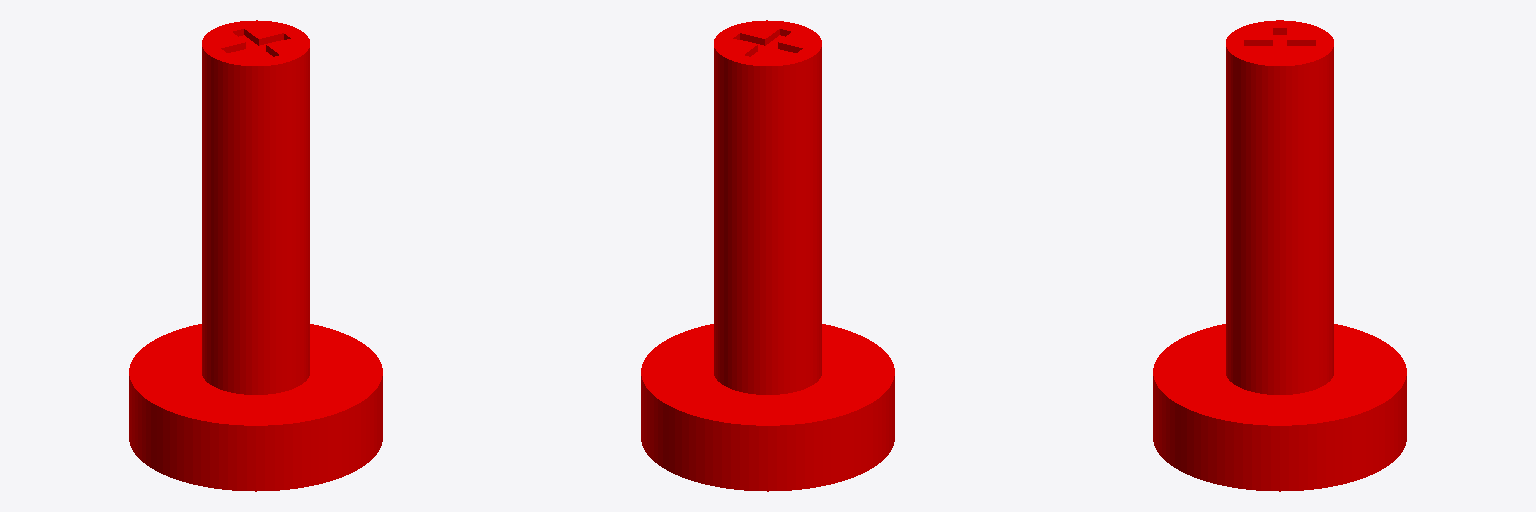
robot.urdf — x_marker:
<?xml version="1.0" ?>
<robot name="x_marker">
  <link name="x_marker">
    <inertial>
      <!-- STL 기준 질량중심 (단위: m) -->
      <origin xyz="0.0 0.0 0.0192291" rpy="0 0 0"/>
      <!-- 작은 O 말: 약 15 g -->
      <mass value="0.015"/>
      <!-- STL 형상 기반 관성 모멘트 (kg·m^2), COM 기준 -->
      <inertia
        ixx="5.57039e-06"
        iyy="5.57039e-06"
        izz="1.40162e-06"
        ixy="0.0"
        iyz="0.0"
        ixz="0.0"/>
    </inertial>

    <visual>
      <origin xyz="0 0 0" rpy="0 0 0"/>
      <geometry>
        <mesh filename="package://kat_description/meshes/board/x_marker.stl"/>
      </geometry>
      <material name="silver">
        <color rgba="1 0 0 1"/>
      </material>
    </visual>

    <collision>
      <origin xyz="0 0 0" rpy="0 0 0"/>
      <geometry>
        <mesh filename="package://kat_description/meshes/board/x_marker.stl"/>
      </geometry>
    </collision>
  </link>

  <gazebo>
    <plugin name="control" filename="libgazebo_ros_control.so"/>
  </gazebo>
</robot>

--- Facts derived from the render (not from the file) ---
The picture shows the robot from 3 angles, left to right: view 1: azimuth 30°, elevation 25°; view 2: azimuth 150°, elevation 25°; view 3: azimuth 270°, elevation 25°; orthographic projection.
Model x_marker with 1 links and 0 joints (none), rooted at x_marker, posed all joints at 0.
Visible links, largest first — view 1: x_marker; view 2: x_marker; view 3: x_marker.
Boxes of the visible links, x1=… form: x_marker: x1=129, y1=20, x2=382, y2=491; x_marker: x1=641, y1=20, x2=894, y2=491; x_marker: x1=1153, y1=20, x2=1406, y2=491.
Bounding box of the posed robot: 35 × 35 × 60 m (x, y, z).
1 mesh visuals loaded from 1 distinct referenced files (1 binary STL).
